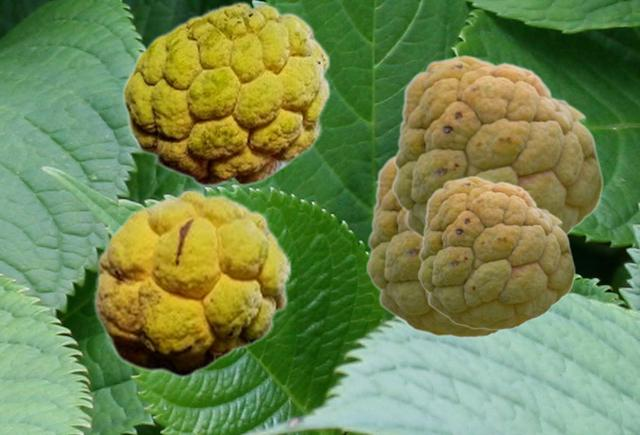atis: (391, 54, 602, 238), (121, 1, 330, 186), (92, 188, 291, 377), (365, 155, 503, 337), (417, 175, 574, 329)
